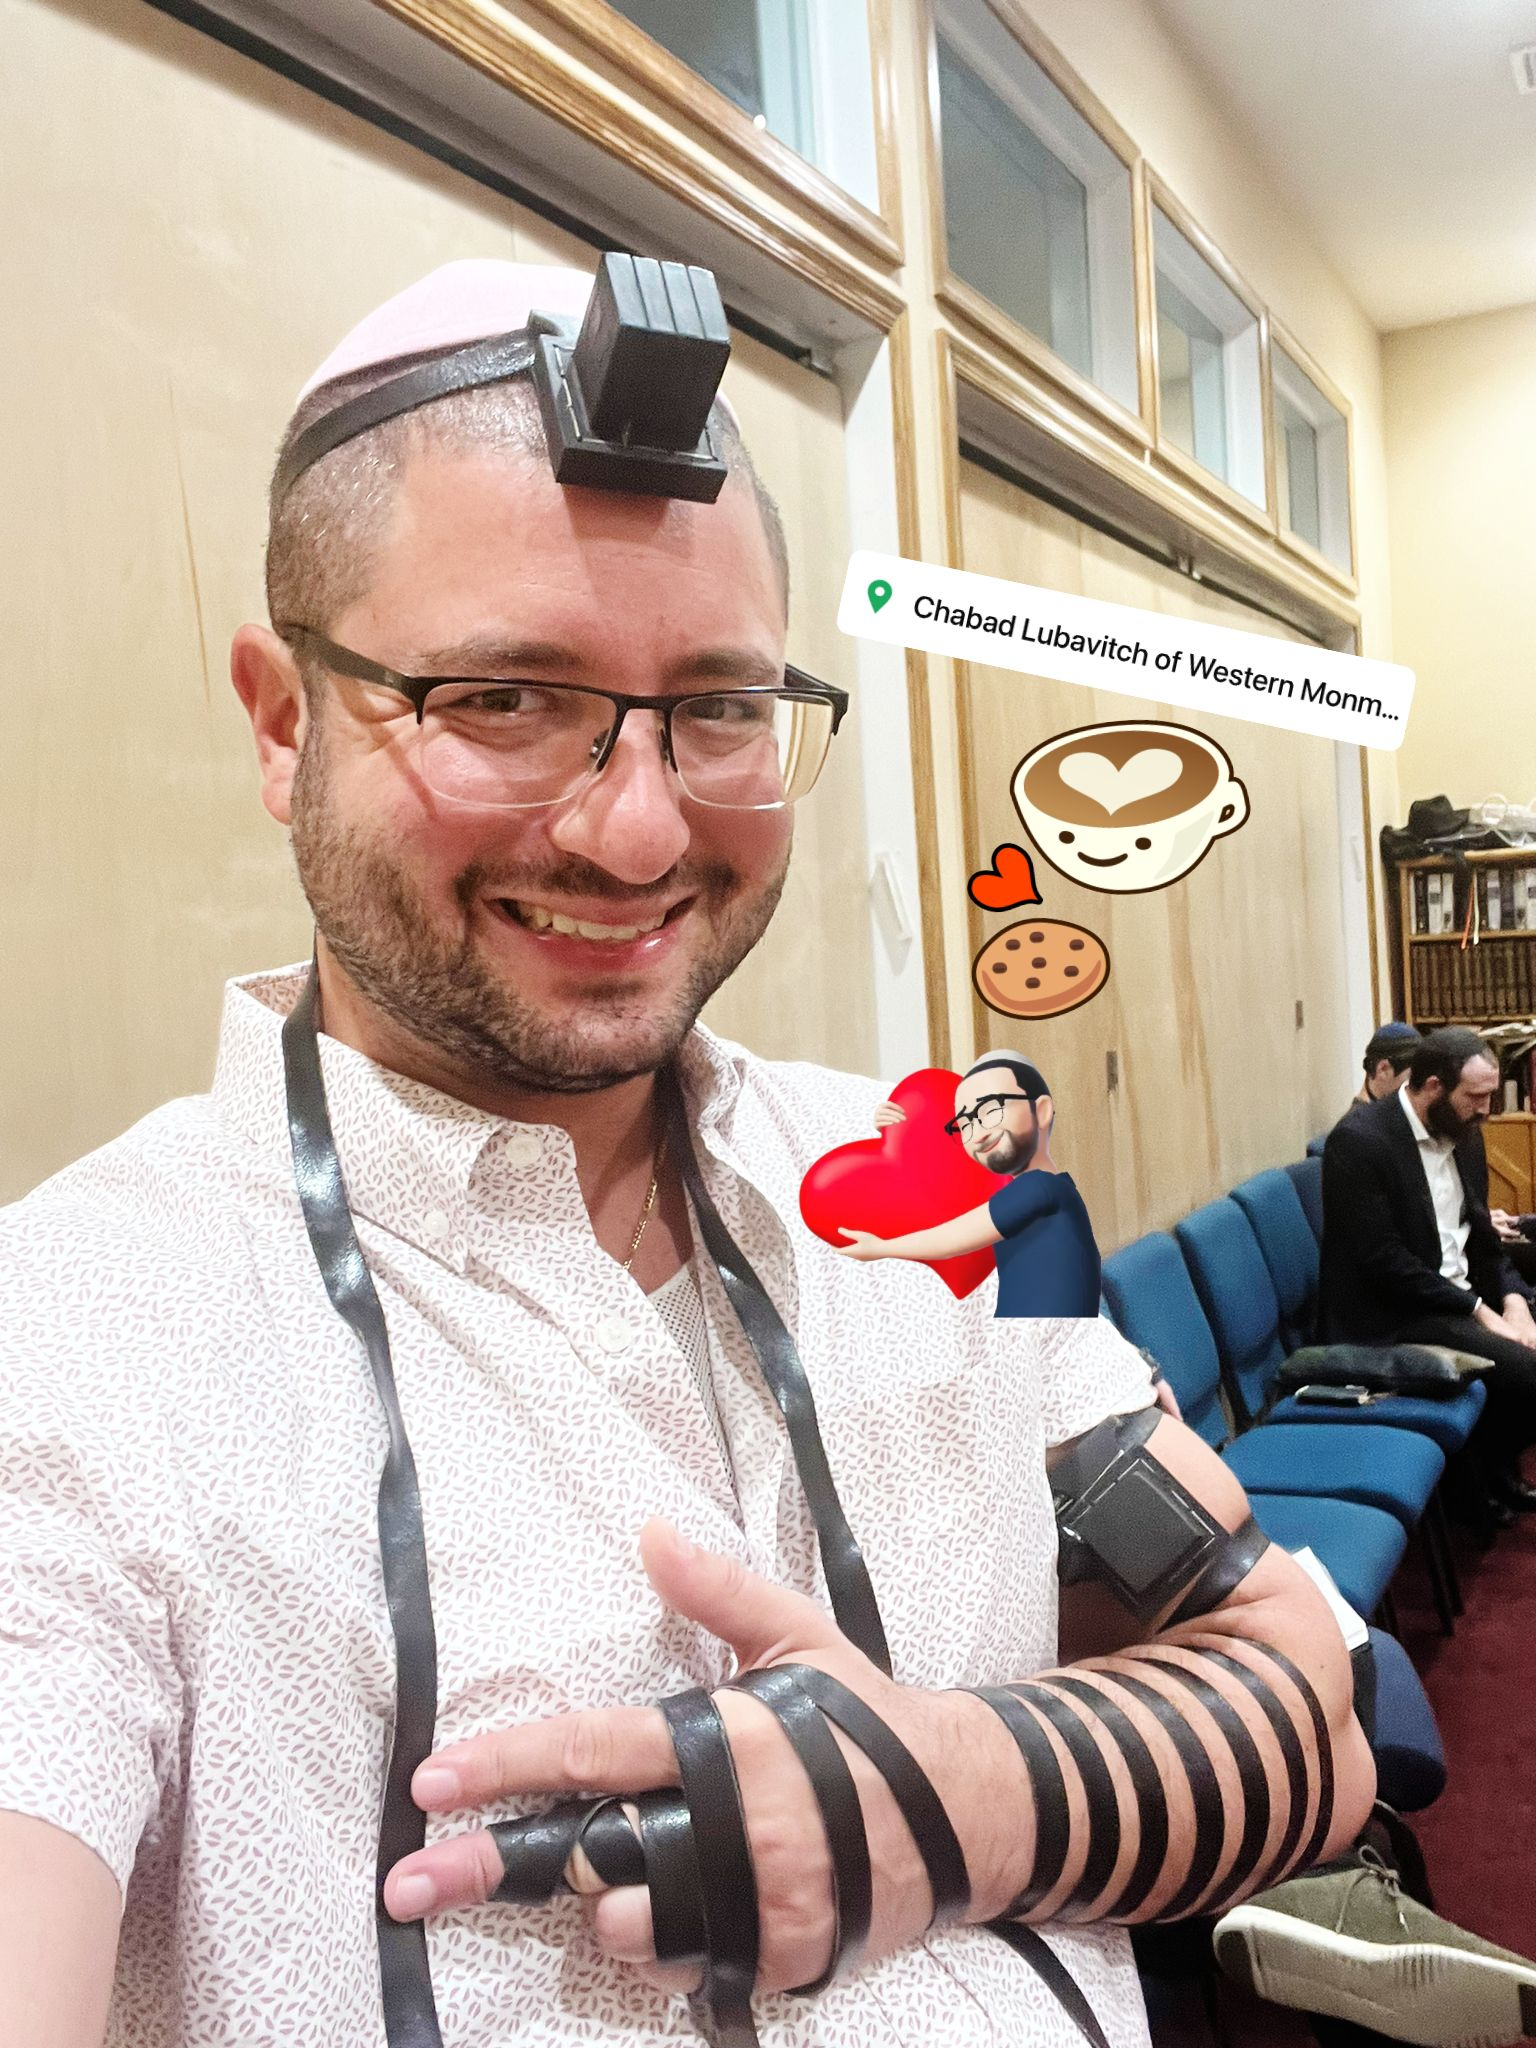tefillin: (529, 252, 734, 510), (1047, 1411, 1229, 1613)
